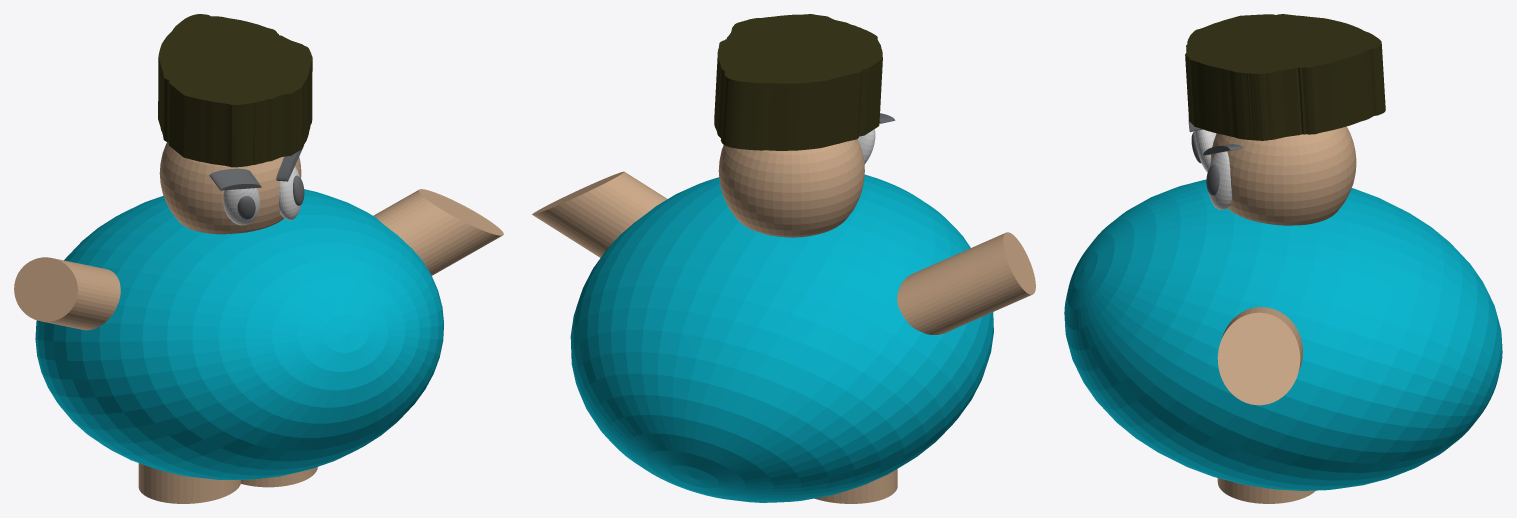
Rendered from Brave Kasi-Inari (1).glb.
3 views of the same model, side by side, from view 1: azimuth 30°, elevation 25°; view 2: azimuth 150°, elevation 25°; view 3: azimuth 270°, elevation 25° (orthographic). The views are drawn at different scales.
Parts seen in each view (by area): view 1: Mesh_Mesh_head_geo.001_lambert2SG.001; view 2: Mesh_Mesh_head_geo.001_lambert2SG.001; view 3: Mesh_Mesh_head_geo.001_lambert2SG.001.
Part boxes in pixels (bbox=[...]): Mesh_Mesh_head_geo.001_lambert2SG.001: bbox=[14, 14, 503, 503]; Mesh_Mesh_head_geo.001_lambert2SG.001: bbox=[532, 14, 1035, 503]; Mesh_Mesh_head_geo.001_lambert2SG.001: bbox=[1064, 14, 1502, 503].
Bounding box in the file's own units: 0.078 × 0.0649 × 0.06.
